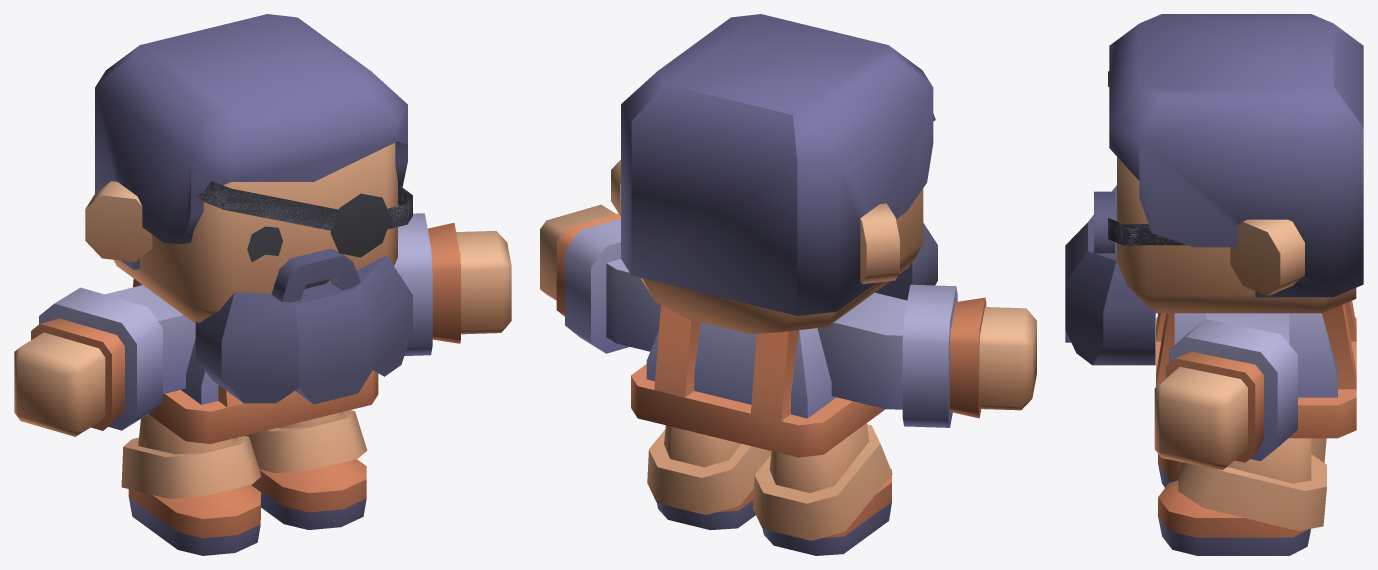
File: character-male-g.obj
The picture shows the model from 3 angles, left to right: view 1: azimuth 30°, elevation 25°; view 2: azimuth 150°, elevation 25°; view 3: azimuth 270°, elevation 25°; orthographic projection.
Parts seen in each view (by area): view 1: head-mesh, body-mesh; view 2: head-mesh, body-mesh; view 3: head-mesh, body-mesh.
Boxes of the visible parts, x1=… form: head-mesh: x1=85, y1=14, x2=412, y2=404; body-mesh: x1=14, y1=213, x2=511, y2=555; head-mesh: x1=611, y1=14, x2=937, y2=333; body-mesh: x1=540, y1=204, x2=1036, y2=555; head-mesh: x1=1065, y1=14, x2=1363, y2=365; body-mesh: x1=1154, y1=300, x2=1356, y2=555.
Bounding box in the file's own units: 0.7672 × 0.6713 × 0.399.
Materials: 1 (1 with a texture image).
